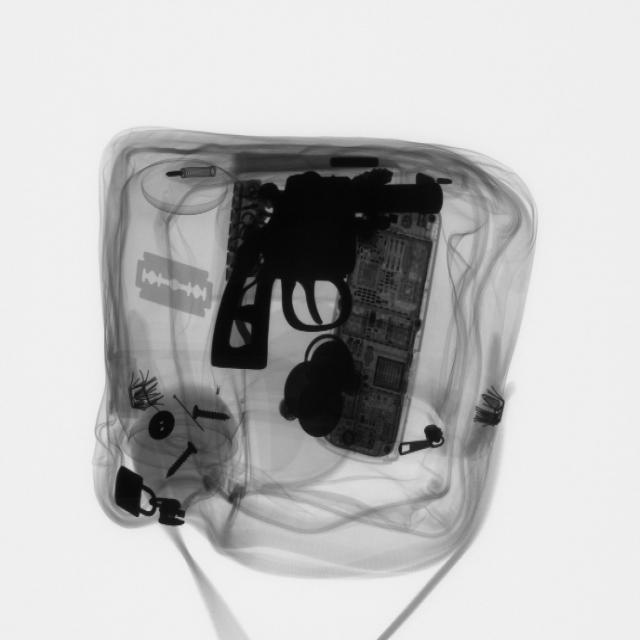BLADE: (130, 248, 220, 322)
GUN: (221, 171, 444, 382)
SCREW: (163, 439, 205, 485), (188, 401, 237, 432)
